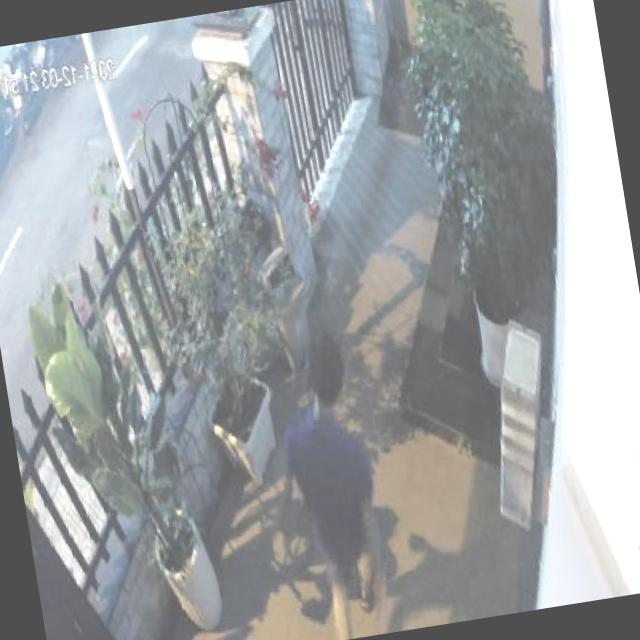Person: (267, 327, 399, 640)
